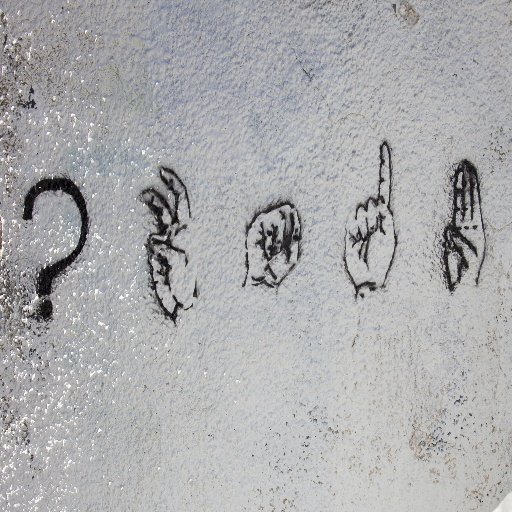hand: (138, 165, 200, 326), (349, 161, 400, 302), (442, 159, 487, 290), (239, 201, 301, 295)
